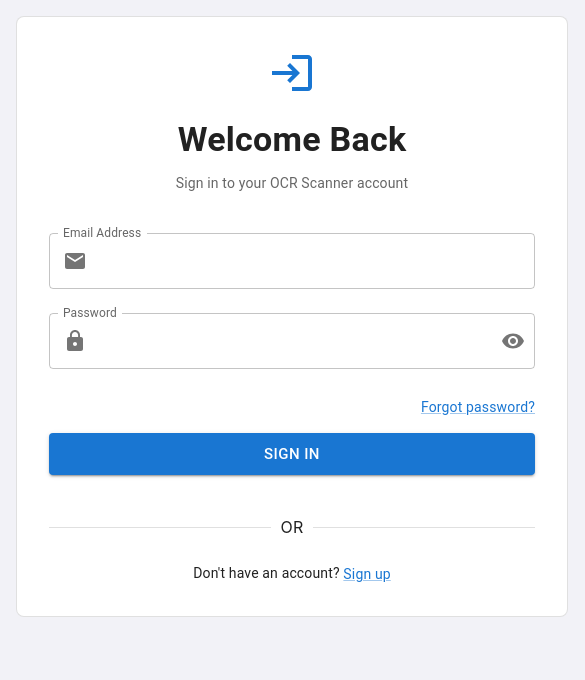
Test case: LoginForm › form validation › clears the email error when the user starts typing in the email field
Click the button "Sign In": (292, 454) x1=49 y1=433 x2=535 y2=475
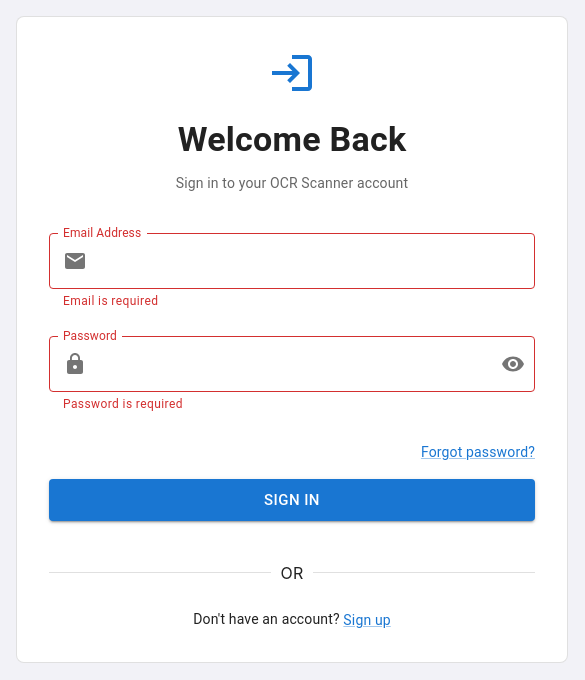
Expected: the text "Email is required" is shown, x1=63 y1=294 x2=158 y2=308
In the field labelled "Email Address": (315, 261) x1=95 y1=233 x2=535 y2=289, type "a"
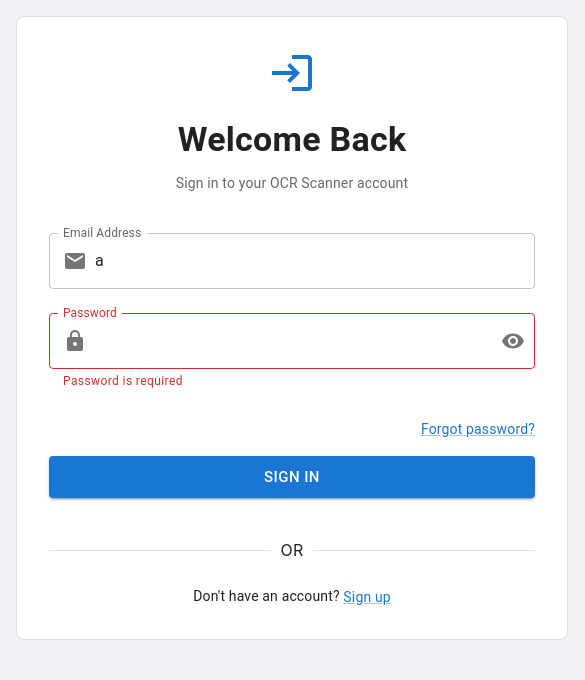
Expected: the text "Email is required" is gone
